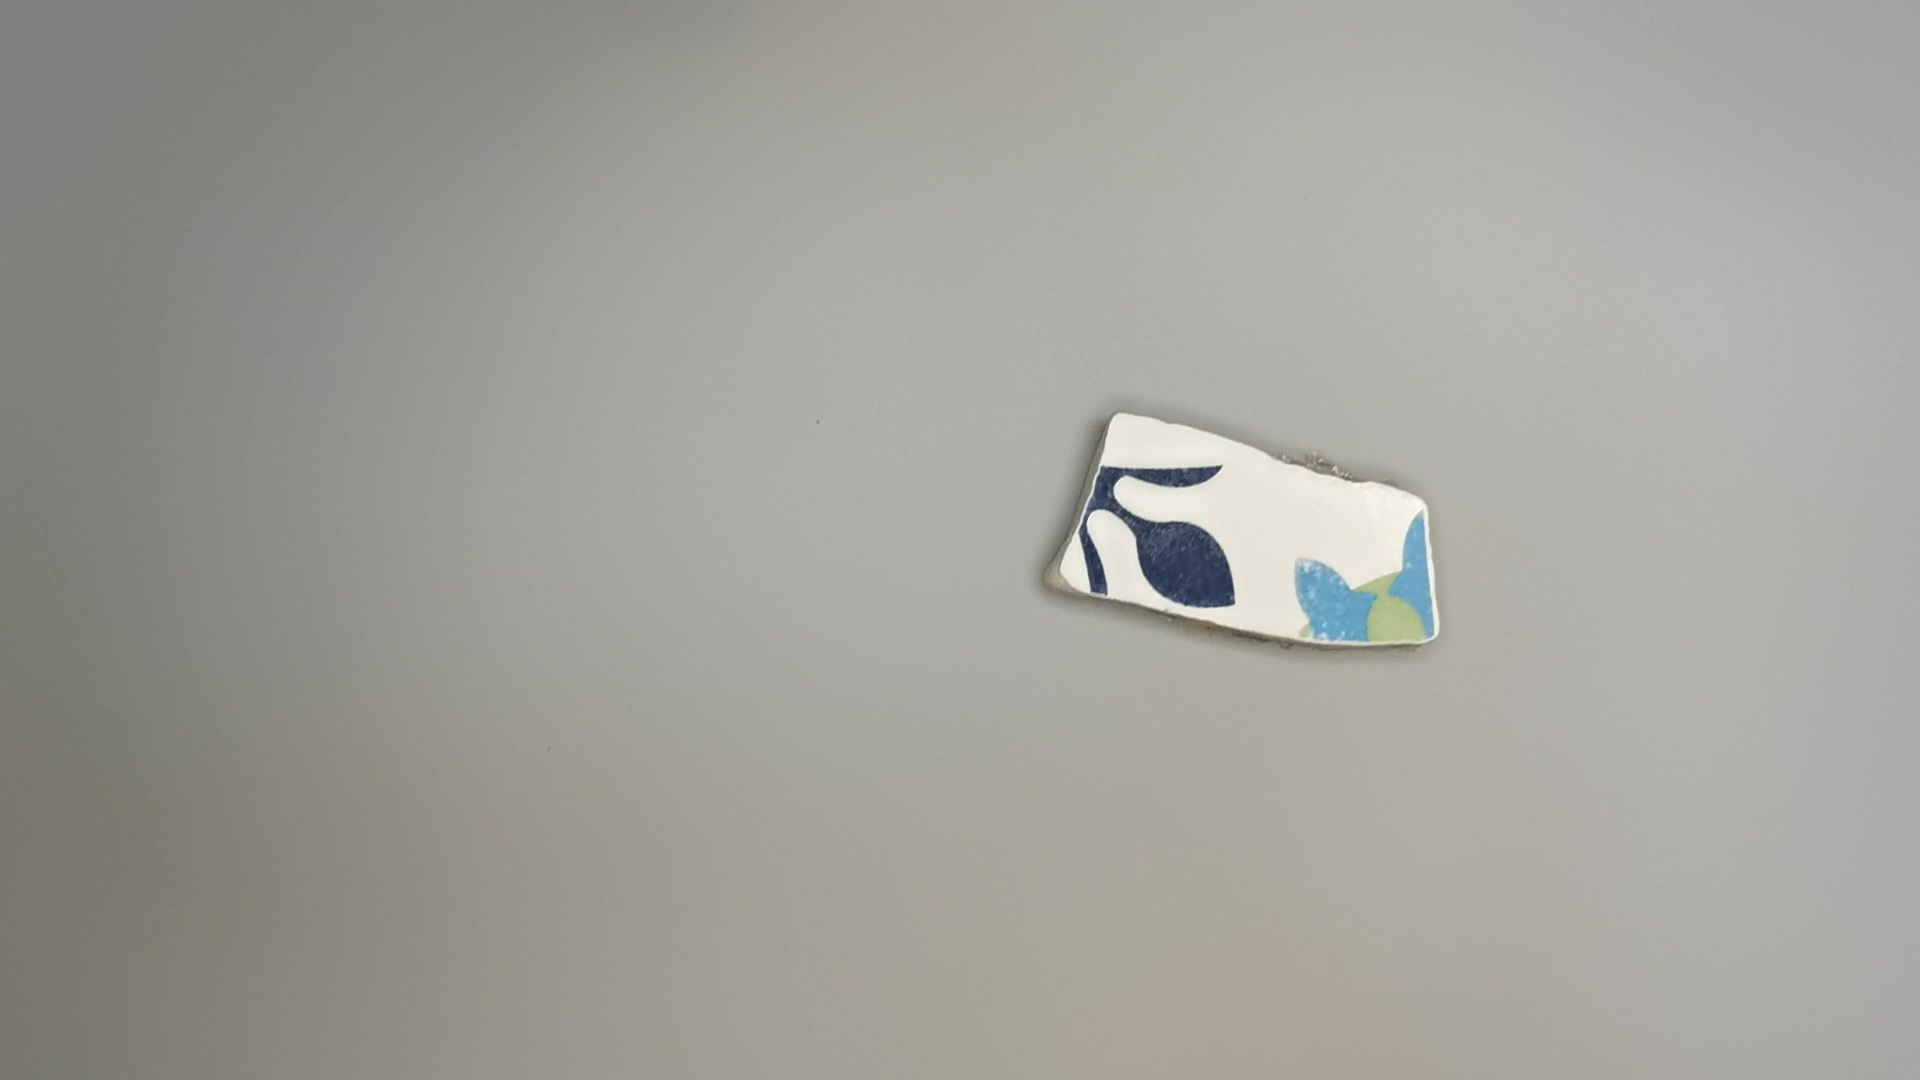ceramic: (1038, 400, 1464, 678)
